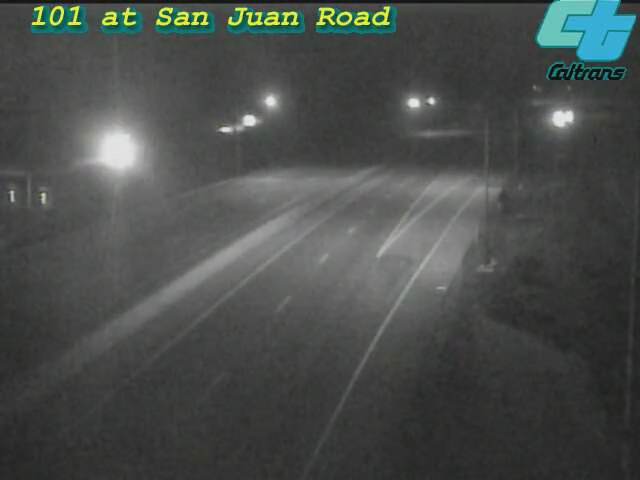vehicle: (535, 95, 585, 145), (545, 91, 595, 141)
